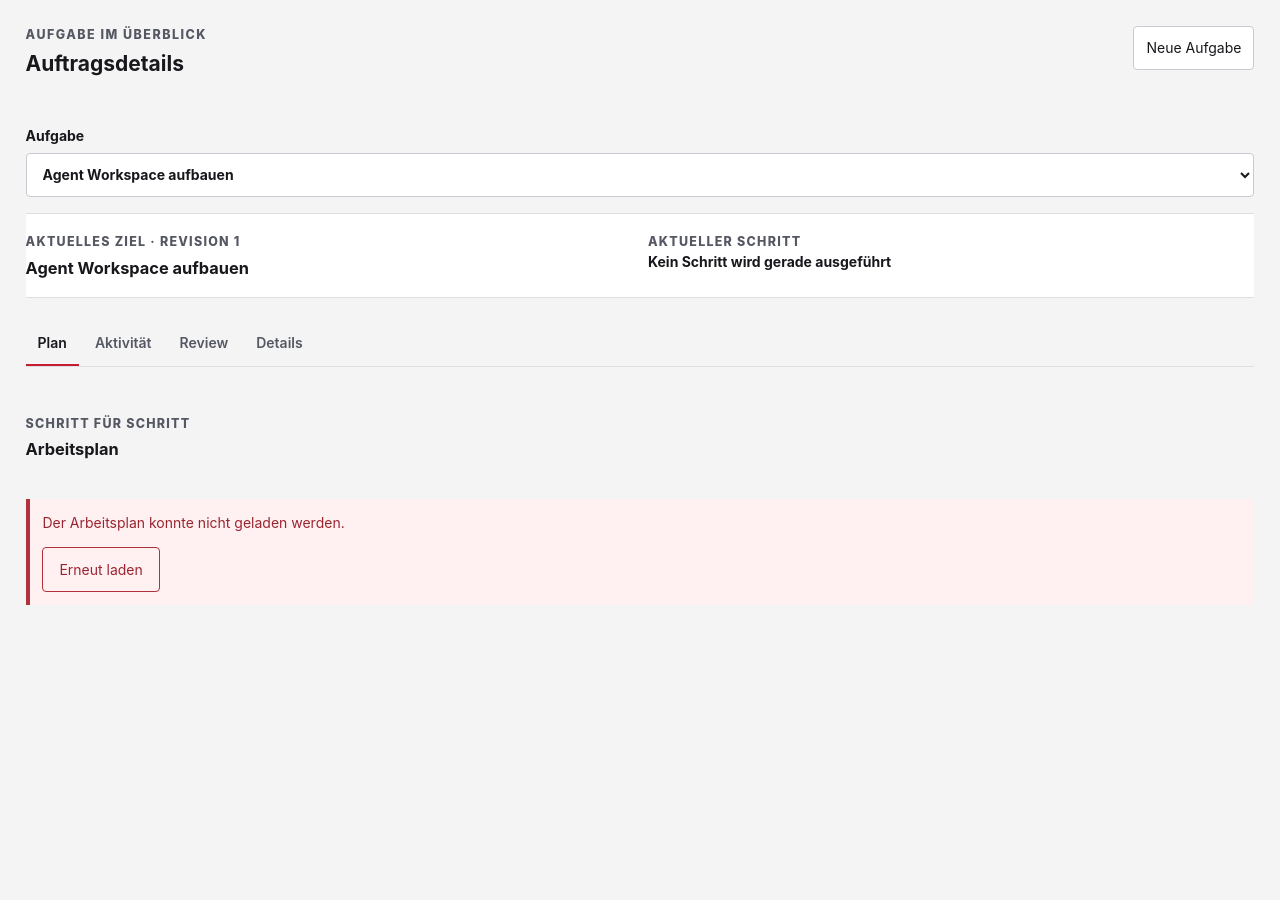
AgentGoalWorkspace › binds the inspection panel to the selected durable task
Step 1. Click the button "Review" → click(204, 344), box x1=168 y1=322 x2=240 y2=366
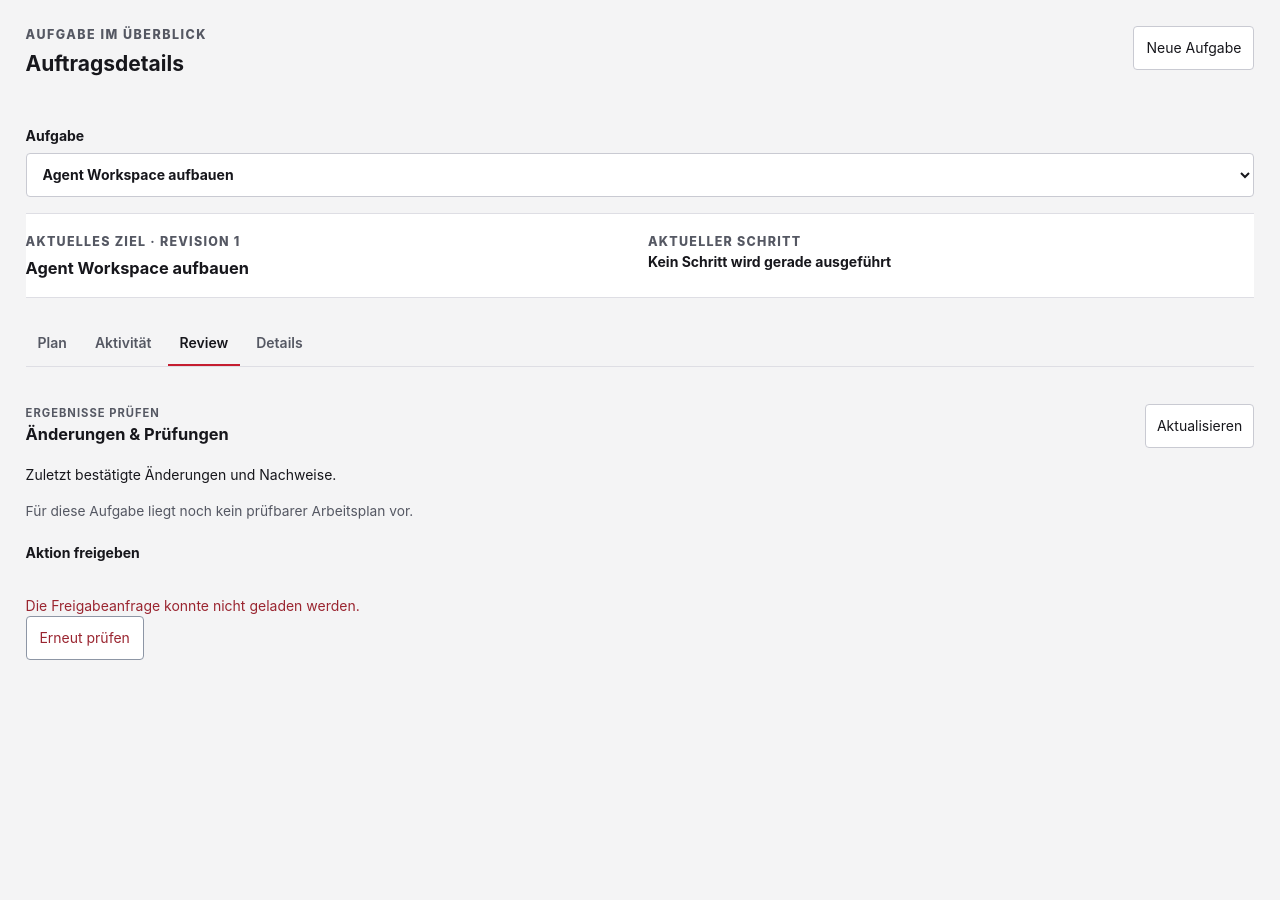
expect the heading "Änderungen & Prüfungen" is shown: met, box x1=26 y1=422 x2=229 y2=446
expect the text "Für diese Aufgabe liegt noch kein prüfbarer Arbeitsplan vor." is shown: met, box x1=26 y1=502 x2=413 y2=518
